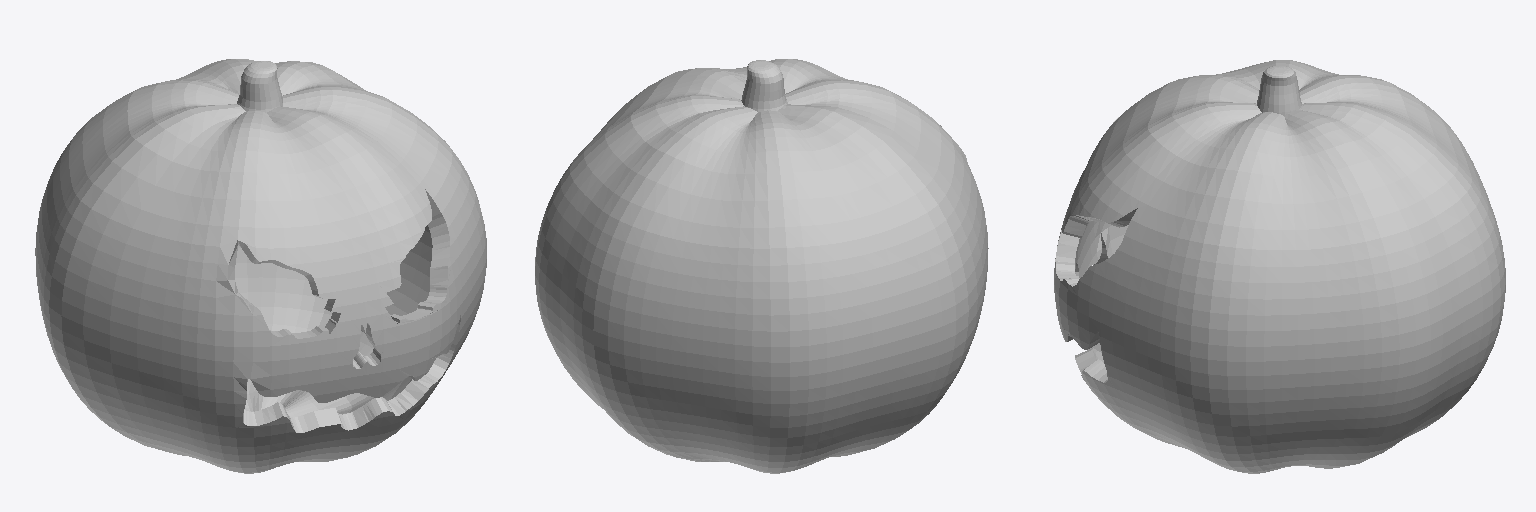
The model's file is pumpkin.obj.
The picture shows the model from 3 angles: view 1: azimuth 30°, elevation 25°; view 2: azimuth 150°, elevation 25°; view 3: azimuth 270°, elevation 25°; orthographic projection.
Visible parts, largest first — view 1: g_polySurface24; view 2: g_polySurface24; view 3: g_polySurface24.
Part boxes in pixels (x1,y1,x2,y2): g_polySurface24: (35,59,486,473); g_polySurface24: (535,59,988,473); g_polySurface24: (1054,60,1505,473).
Bounding box in the file's own units: 2 × 1.83 × 1.98.